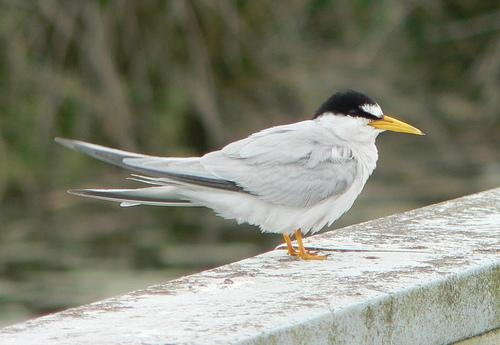bird: (48, 86, 427, 260)
